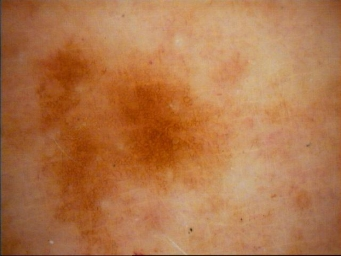melanoma: (36, 40, 114, 256), (117, 51, 231, 192)
